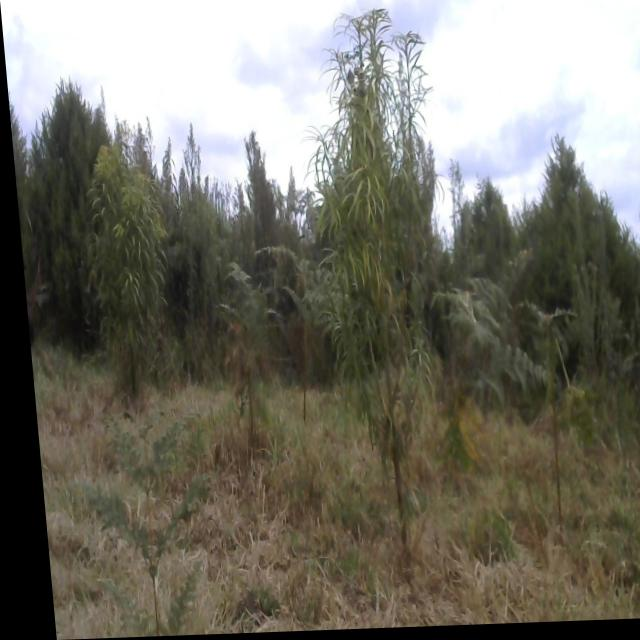Podocarpus falcatus: (310, 11, 433, 486), (85, 146, 161, 397)
cedrus: (519, 123, 634, 345), (21, 79, 119, 319), (6, 92, 33, 269), (627, 172, 640, 344)
